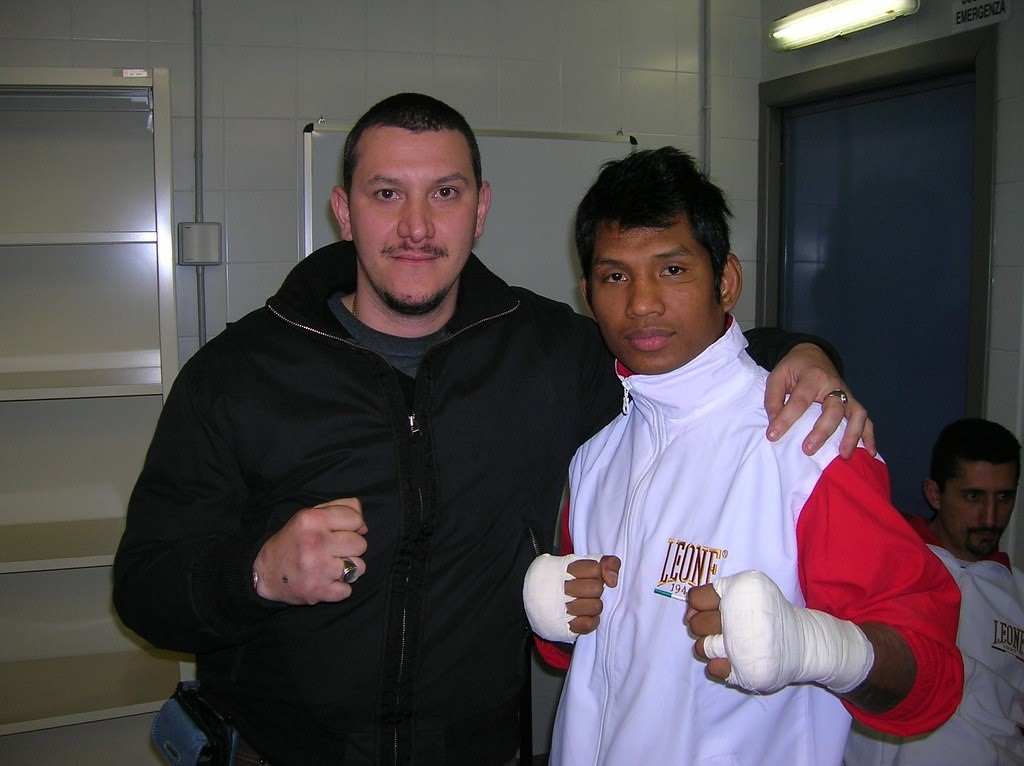face_no_mask: (574, 143, 745, 377), (330, 96, 492, 315), (924, 418, 1016, 563)
